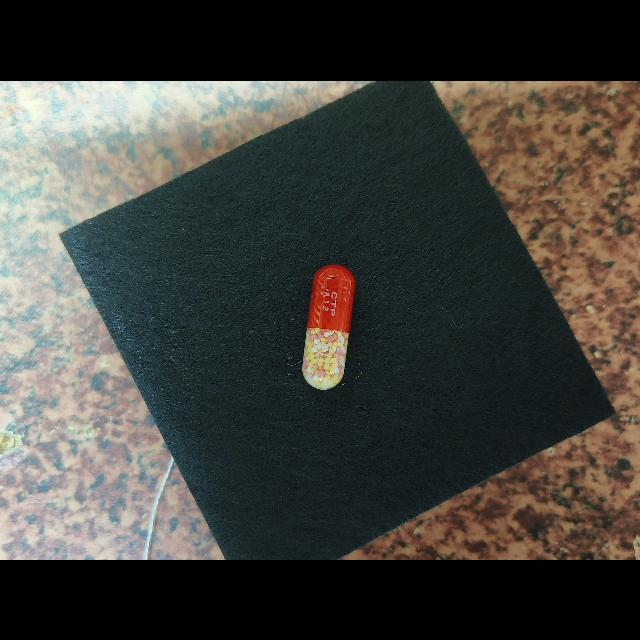Intact Capsule: (302, 263, 355, 389)
